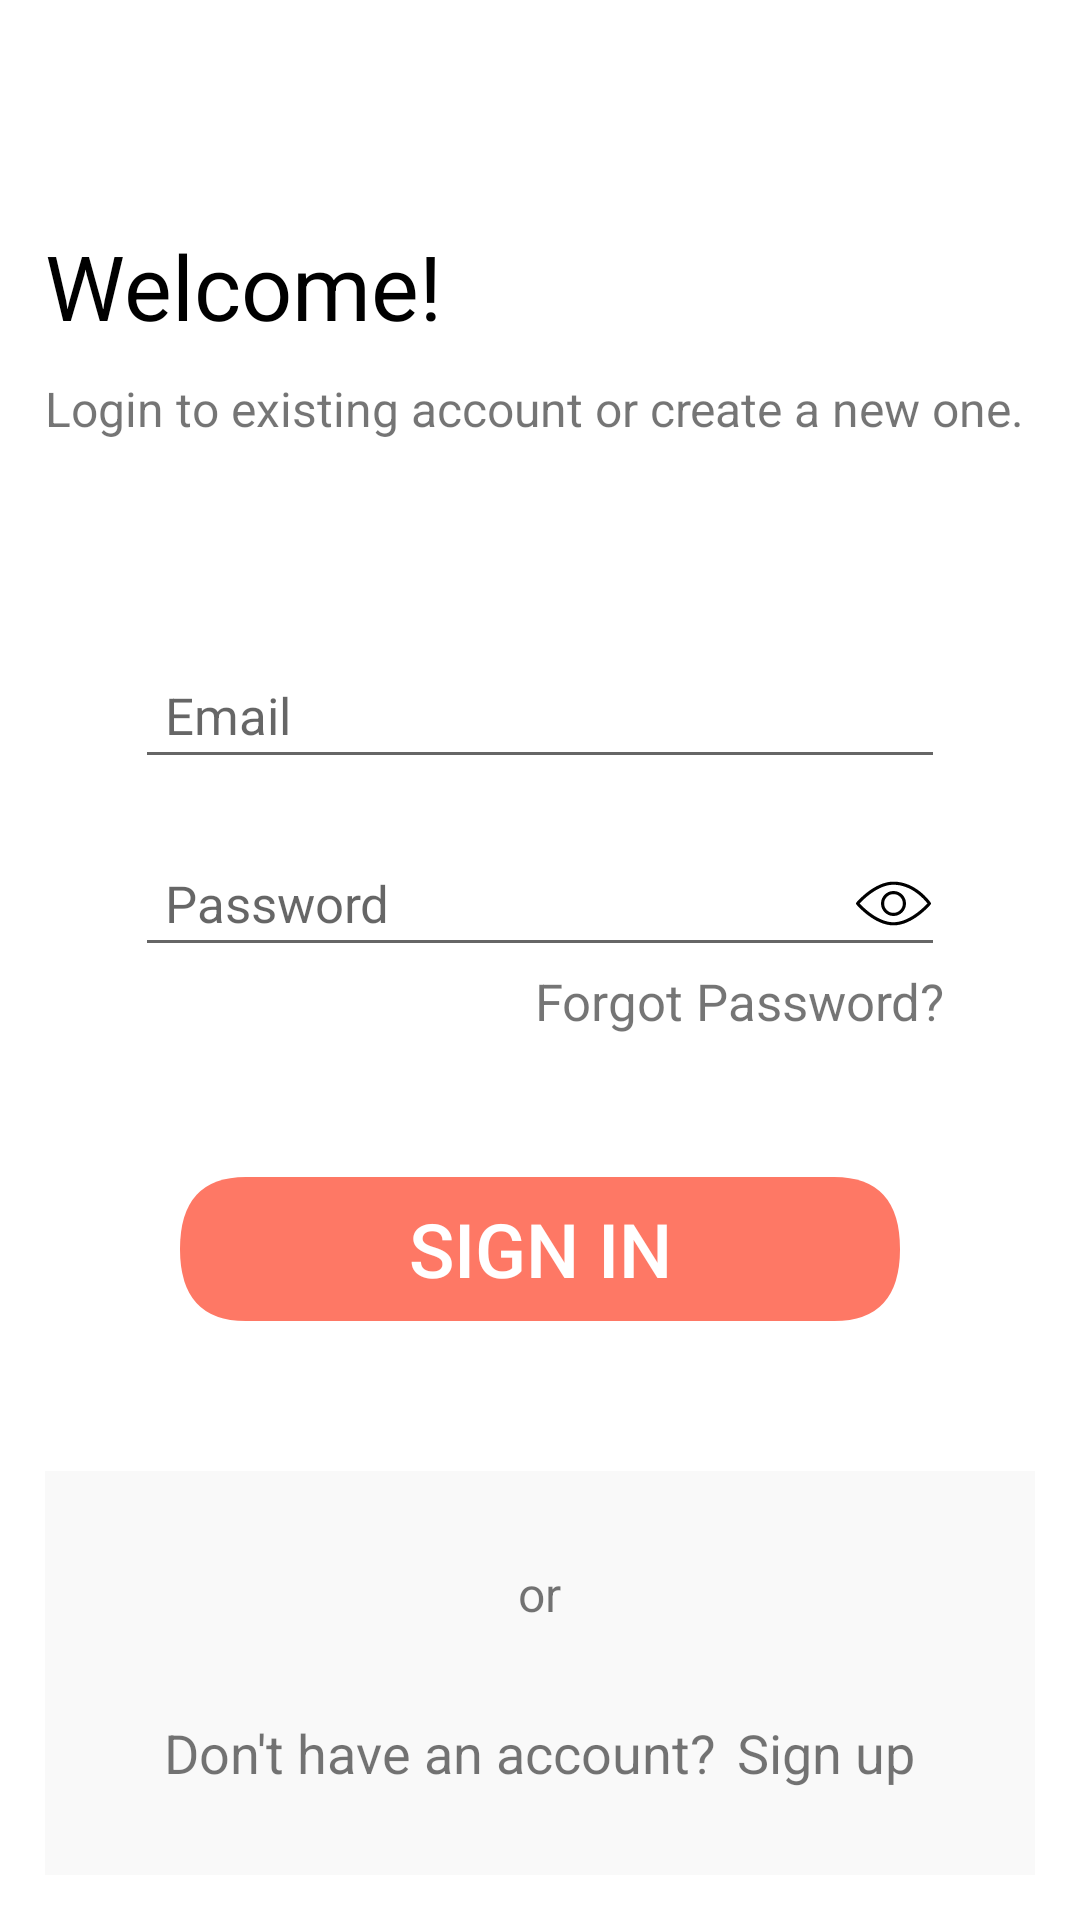

Icon click points for this 1080 × 1920 phone screenshot, format (x=x, y=y):
show pass: (x=893, y=903)
